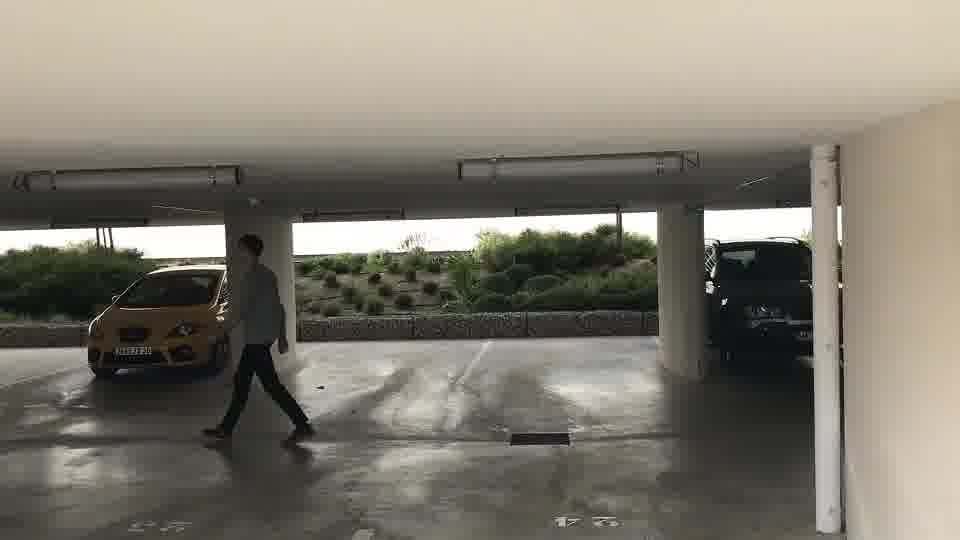jugador: (202, 228, 311, 451)
